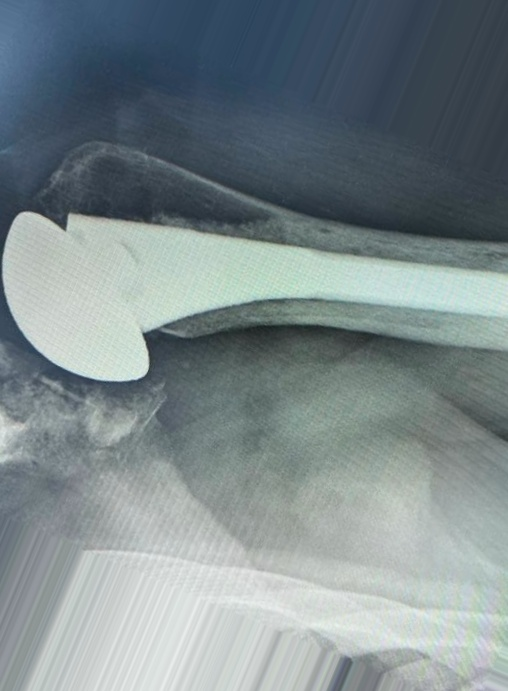Shoulder - Anotomical - Stryker: (1, 204, 173, 390)
